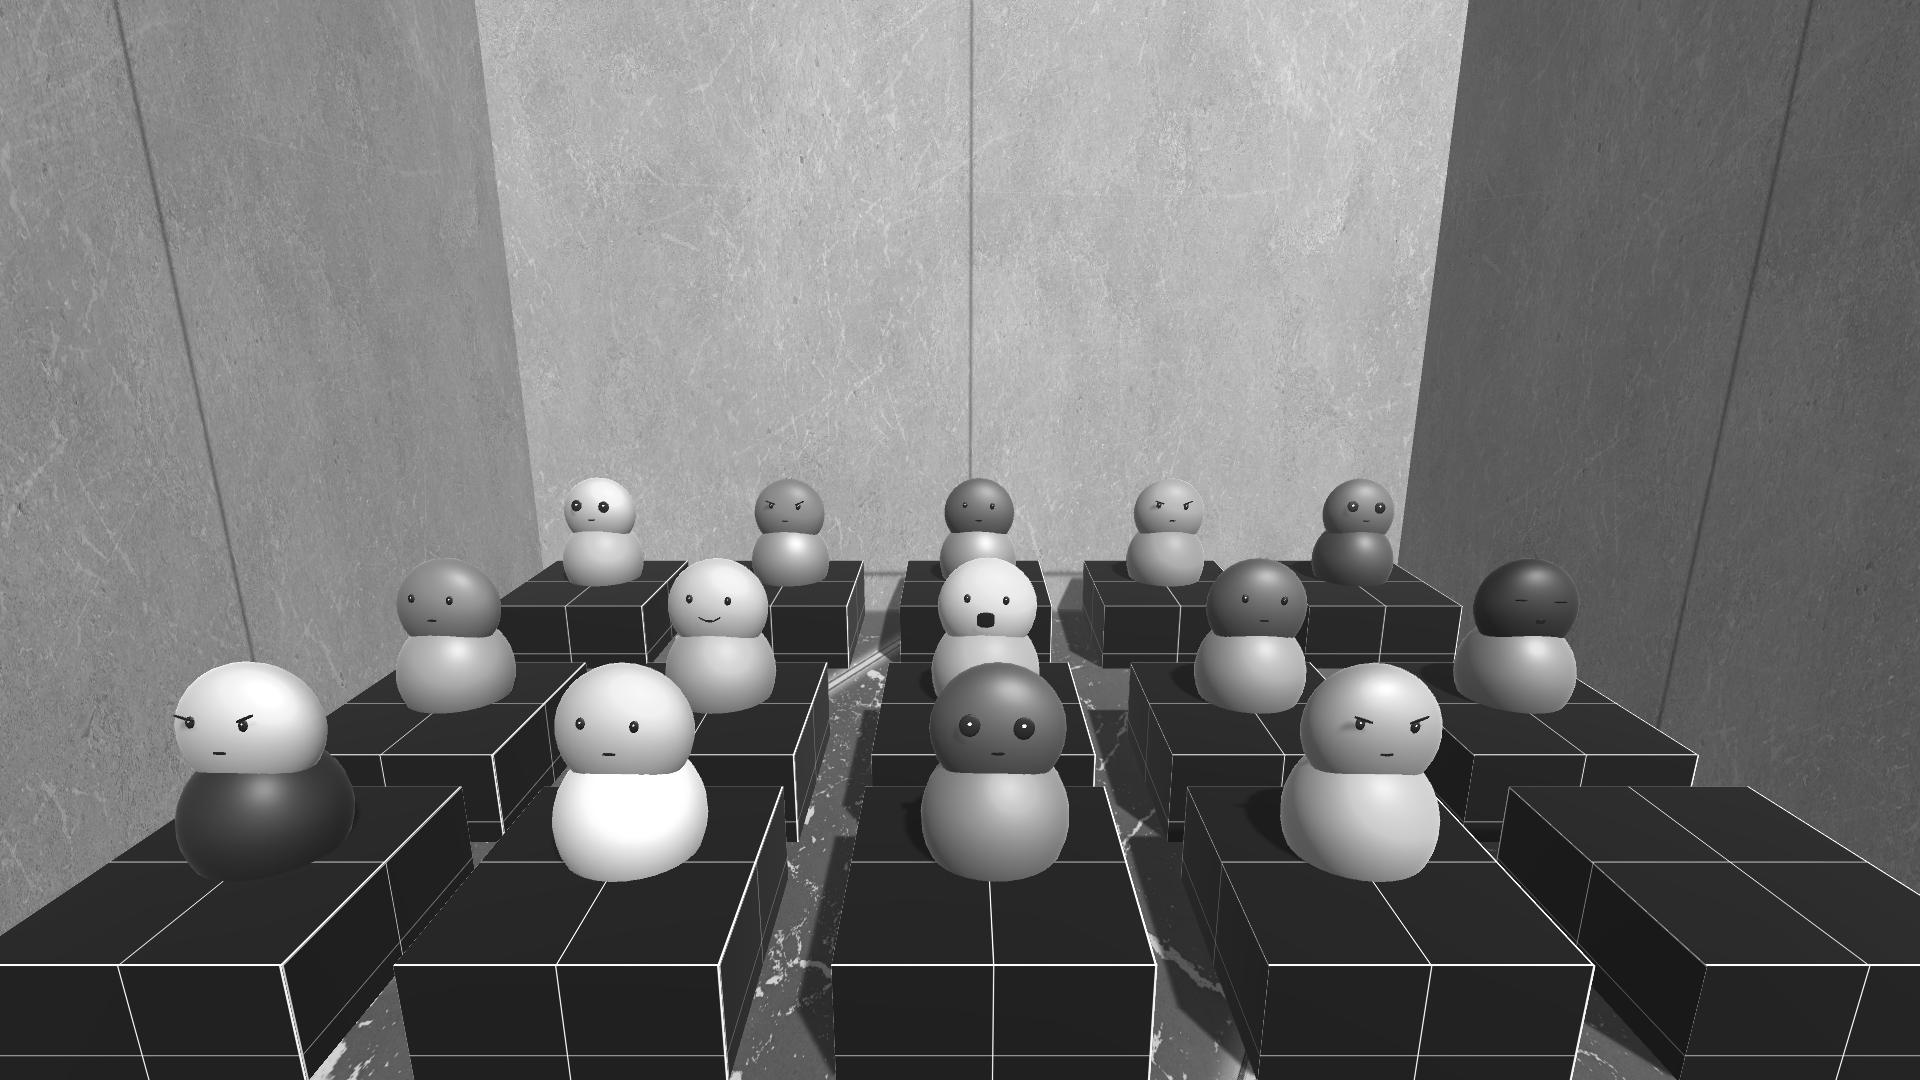blob_atento: (924, 661, 1075, 783), (556, 473, 638, 534), (1320, 479, 1402, 539)
blob_dormindo: (1469, 553, 1585, 646)
blob_feliz: (659, 556, 775, 640)
blob_normal: (551, 651, 690, 778), (386, 559, 510, 646), (1204, 555, 1309, 641), (938, 477, 1017, 531)
blob_raiva: (156, 653, 338, 785), (1294, 661, 1452, 778), (1129, 477, 1213, 535), (752, 473, 829, 535)
blob_surpreso: (934, 556, 1044, 636)
